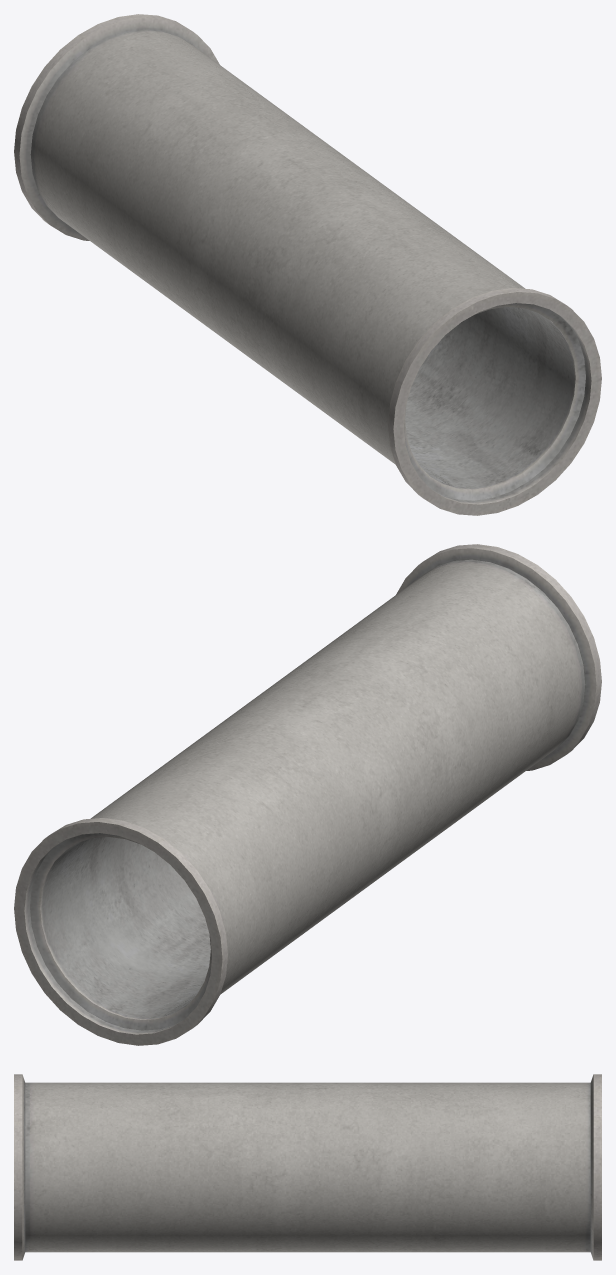
3 views of the same model, one above another, from view 1: azimuth 30°, elevation 25°; view 2: azimuth 150°, elevation 25°; view 3: azimuth 270°, elevation 25° (orthographic). The views are drawn at different scales.
Parts seen in each view (by area): view 1: Pipe; view 2: Pipe; view 3: Pipe.
Boxes of the visible parts, x1=… form: Pipe: x1=14, y1=14, x2=601, y2=515; Pipe: x1=14, y1=544, x2=601, y2=1045; Pipe: x1=14, y1=1074, x2=601, y2=1260.
Bounding box in the file's own units: 0.6346 × 0.6346 × 2.
1 material, 1 textured.
